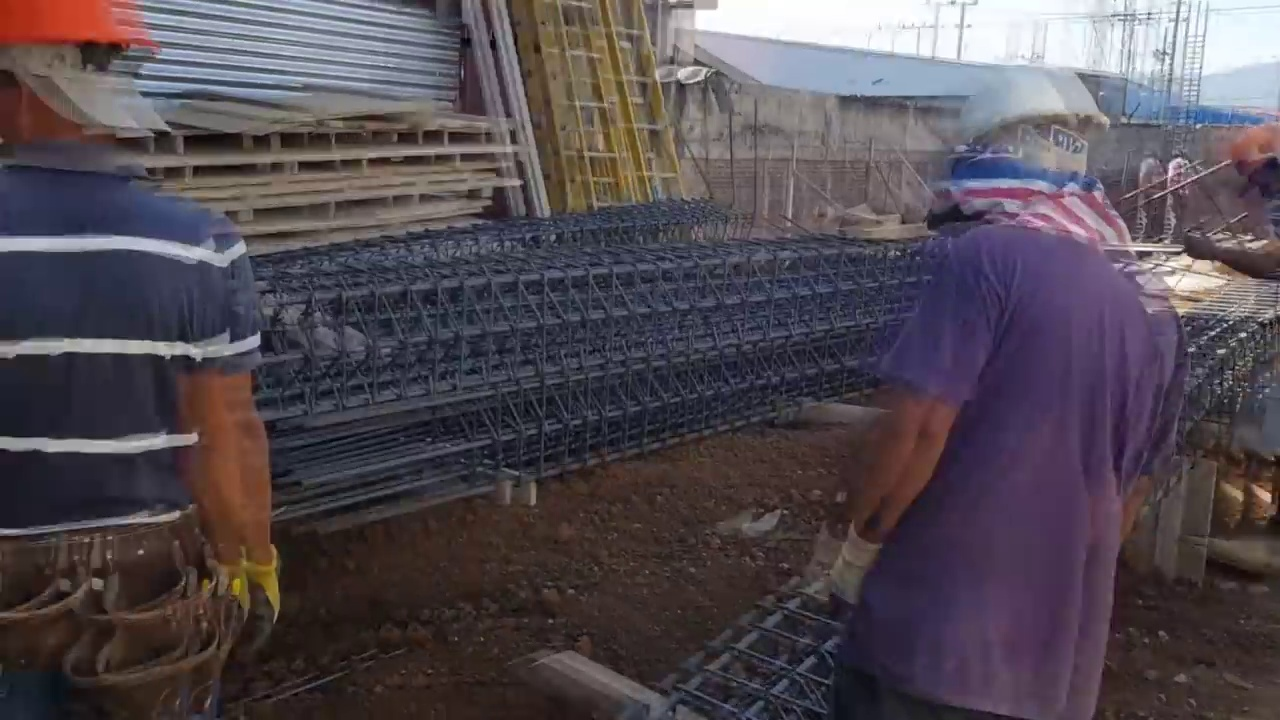helmet: (945, 52, 1105, 172), (0, 7, 158, 80)
helmet-off: (1169, 146, 1187, 163)
helmet-on: (0, 7, 167, 176), (952, 63, 1097, 238)
person: (805, 51, 1183, 720), (0, 0, 285, 720), (1165, 150, 1198, 245)
